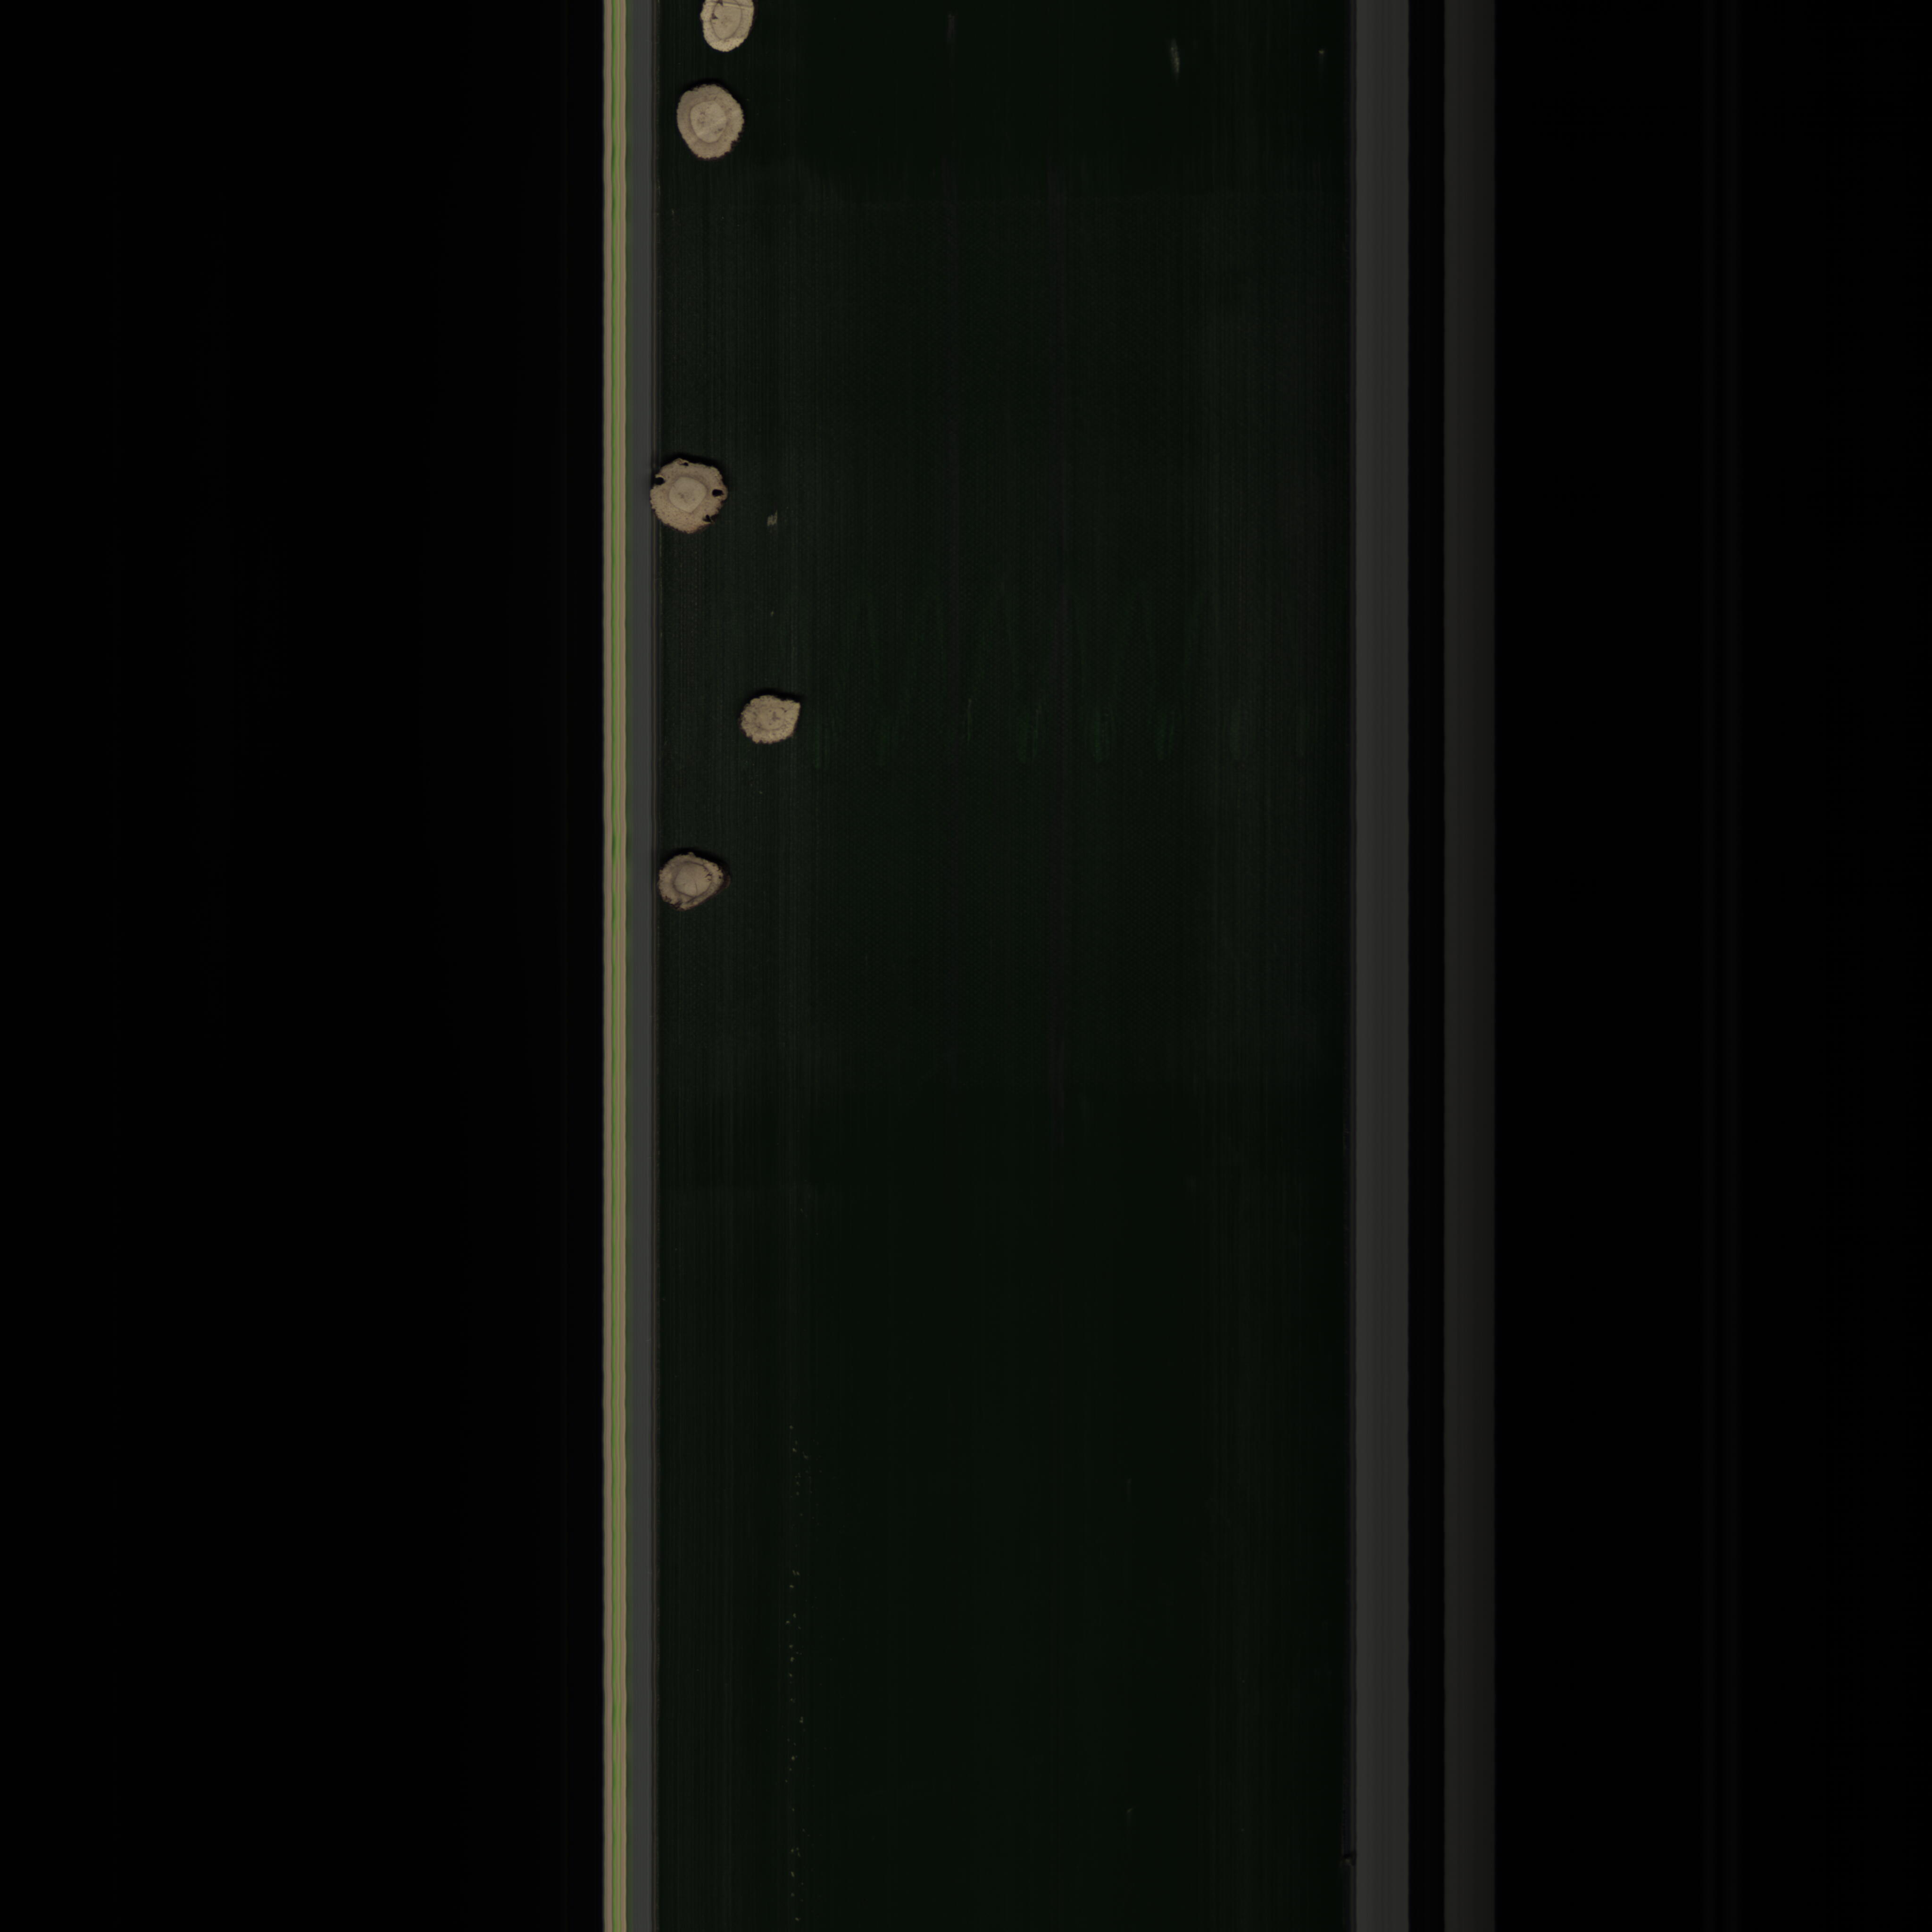distortion: (731, 690, 807, 755)
hole: (649, 448, 741, 545)
moldy: (656, 849, 734, 909)
